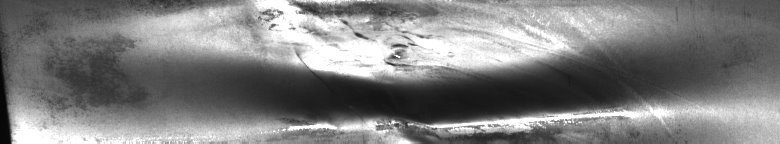ke: (258, 4, 656, 136)
